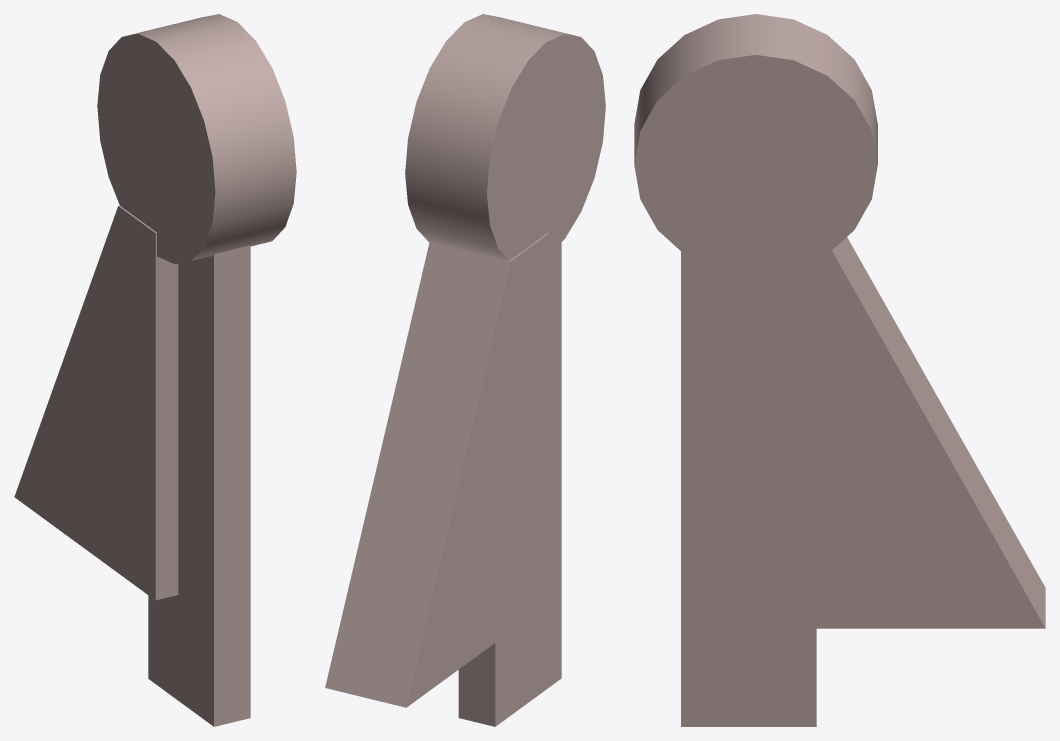
The model's file is femur.obj.
3 renders of one model, left to right at view 1: azimuth 30°, elevation 25°; view 2: azimuth 150°, elevation 25°; view 3: azimuth 270°, elevation 25°, orthographic. The views are drawn at different scales.
Visible parts, largest first — view 1: left_leg1_leg_details; view 2: left_leg1_leg_details; view 3: left_leg1_leg_details.
Part boxes in pixels (x1,y1,x2,y2): left_leg1_leg_details: (14,14,296,726); left_leg1_leg_details: (325,14,605,726); left_leg1_leg_details: (634,14,1045,726).
Bounding box in the file's own units: 0.4842 × 3.71 × 2.02.
Materials: 1 (1 with a texture image).
